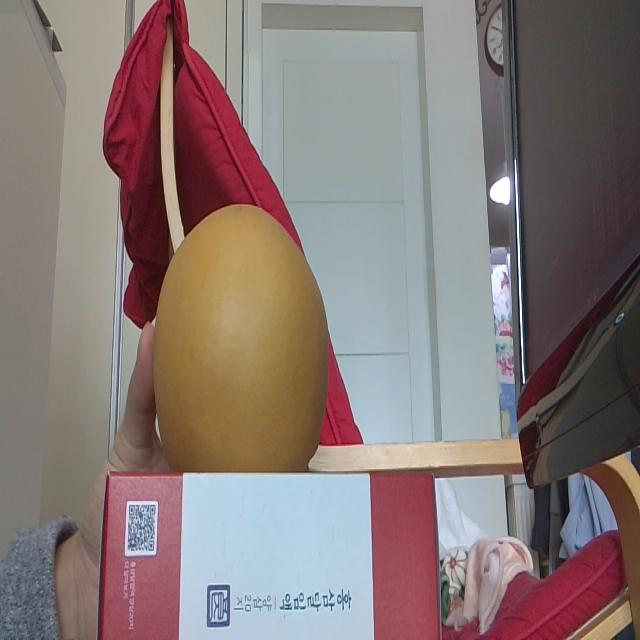pear: (152, 200, 335, 472)
